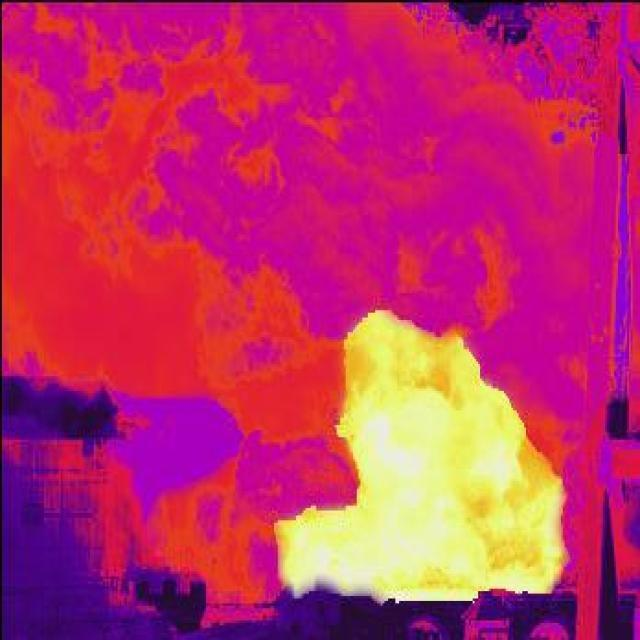fire: (275, 305, 579, 601)
